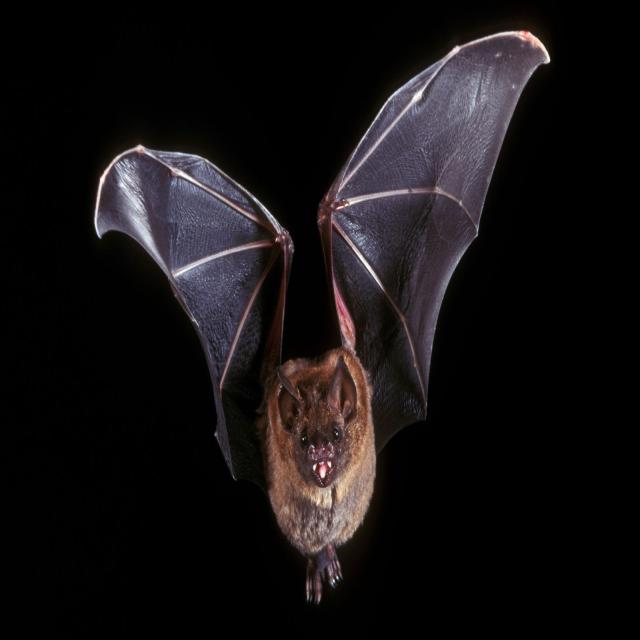Bat: (94, 27, 553, 640)
